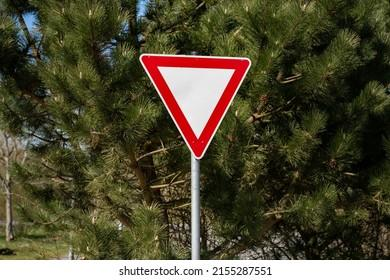Give Way: (139, 51, 256, 163)
